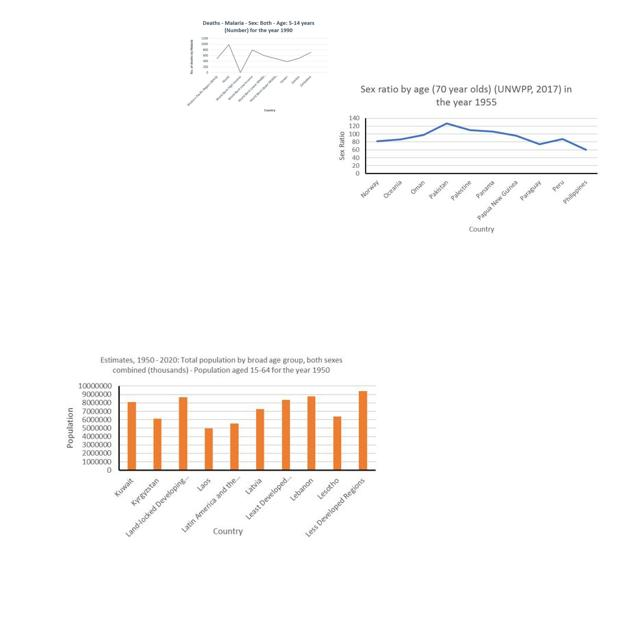Graph: (60, 350, 383, 542), (332, 79, 601, 238), (186, 17, 330, 115)
